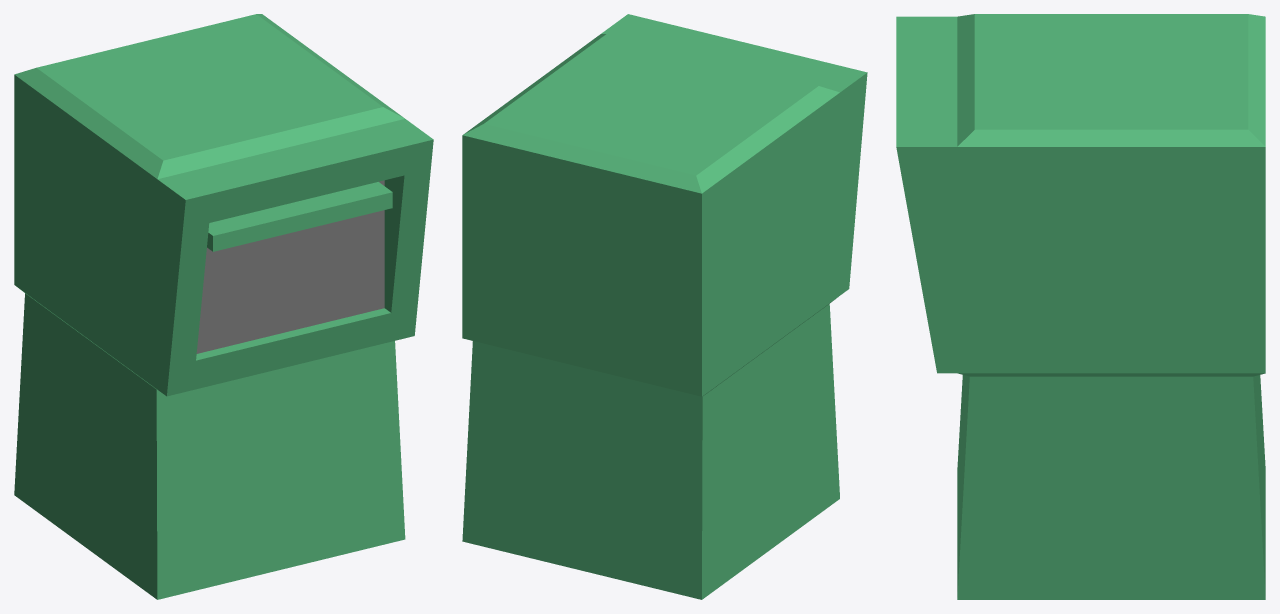
The model's file is Green News.fbx.
The picture shows the model from 3 angles, left to right: view 1: azimuth 30°, elevation 25°; view 2: azimuth 150°, elevation 25°; view 3: azimuth 270°, elevation 25°; orthographic projection. The views are drawn at different scales.
Visible parts, largest first — view 1: pCube1; view 2: pCube1; view 3: pCube1.
Part boxes in pixels (x1,y1,x2,y2): pCube1: [14, 14, 433, 599]; pCube1: [462, 14, 867, 599]; pCube1: [896, 14, 1265, 599].
Size of the model in its own units: 0.6168 by 1.02 by 0.739.
